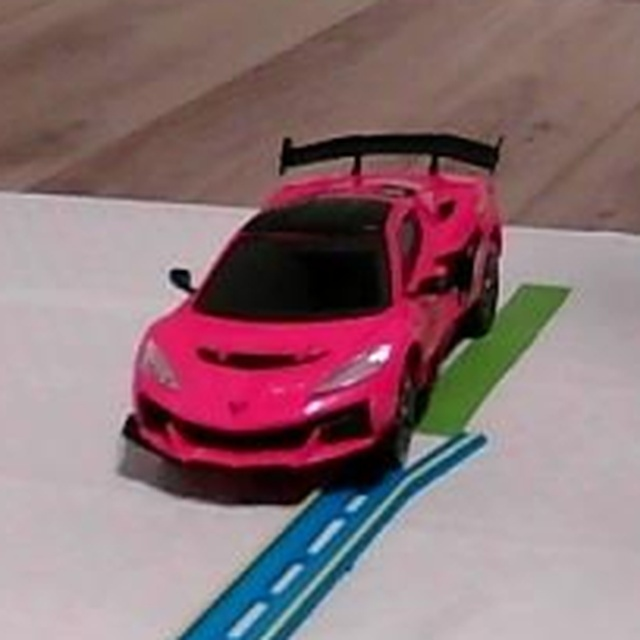tire_rear_driver: (475, 250, 500, 335)
